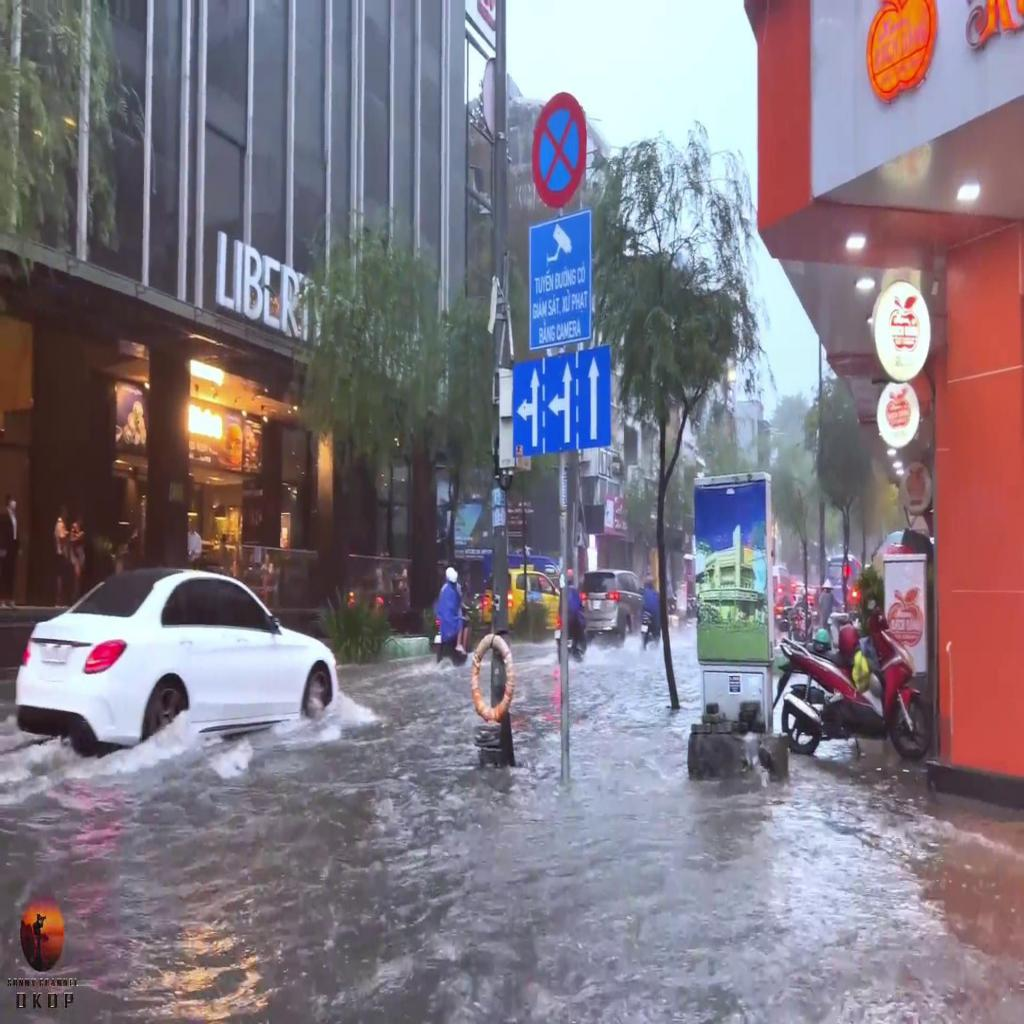cam_dung_xe_va_do_xe: (531, 90, 587, 207)
huong_di_tren_moi_lan_duong_theo_vach_ke_duong: (513, 342, 611, 458)
khac: (528, 212, 592, 351)
